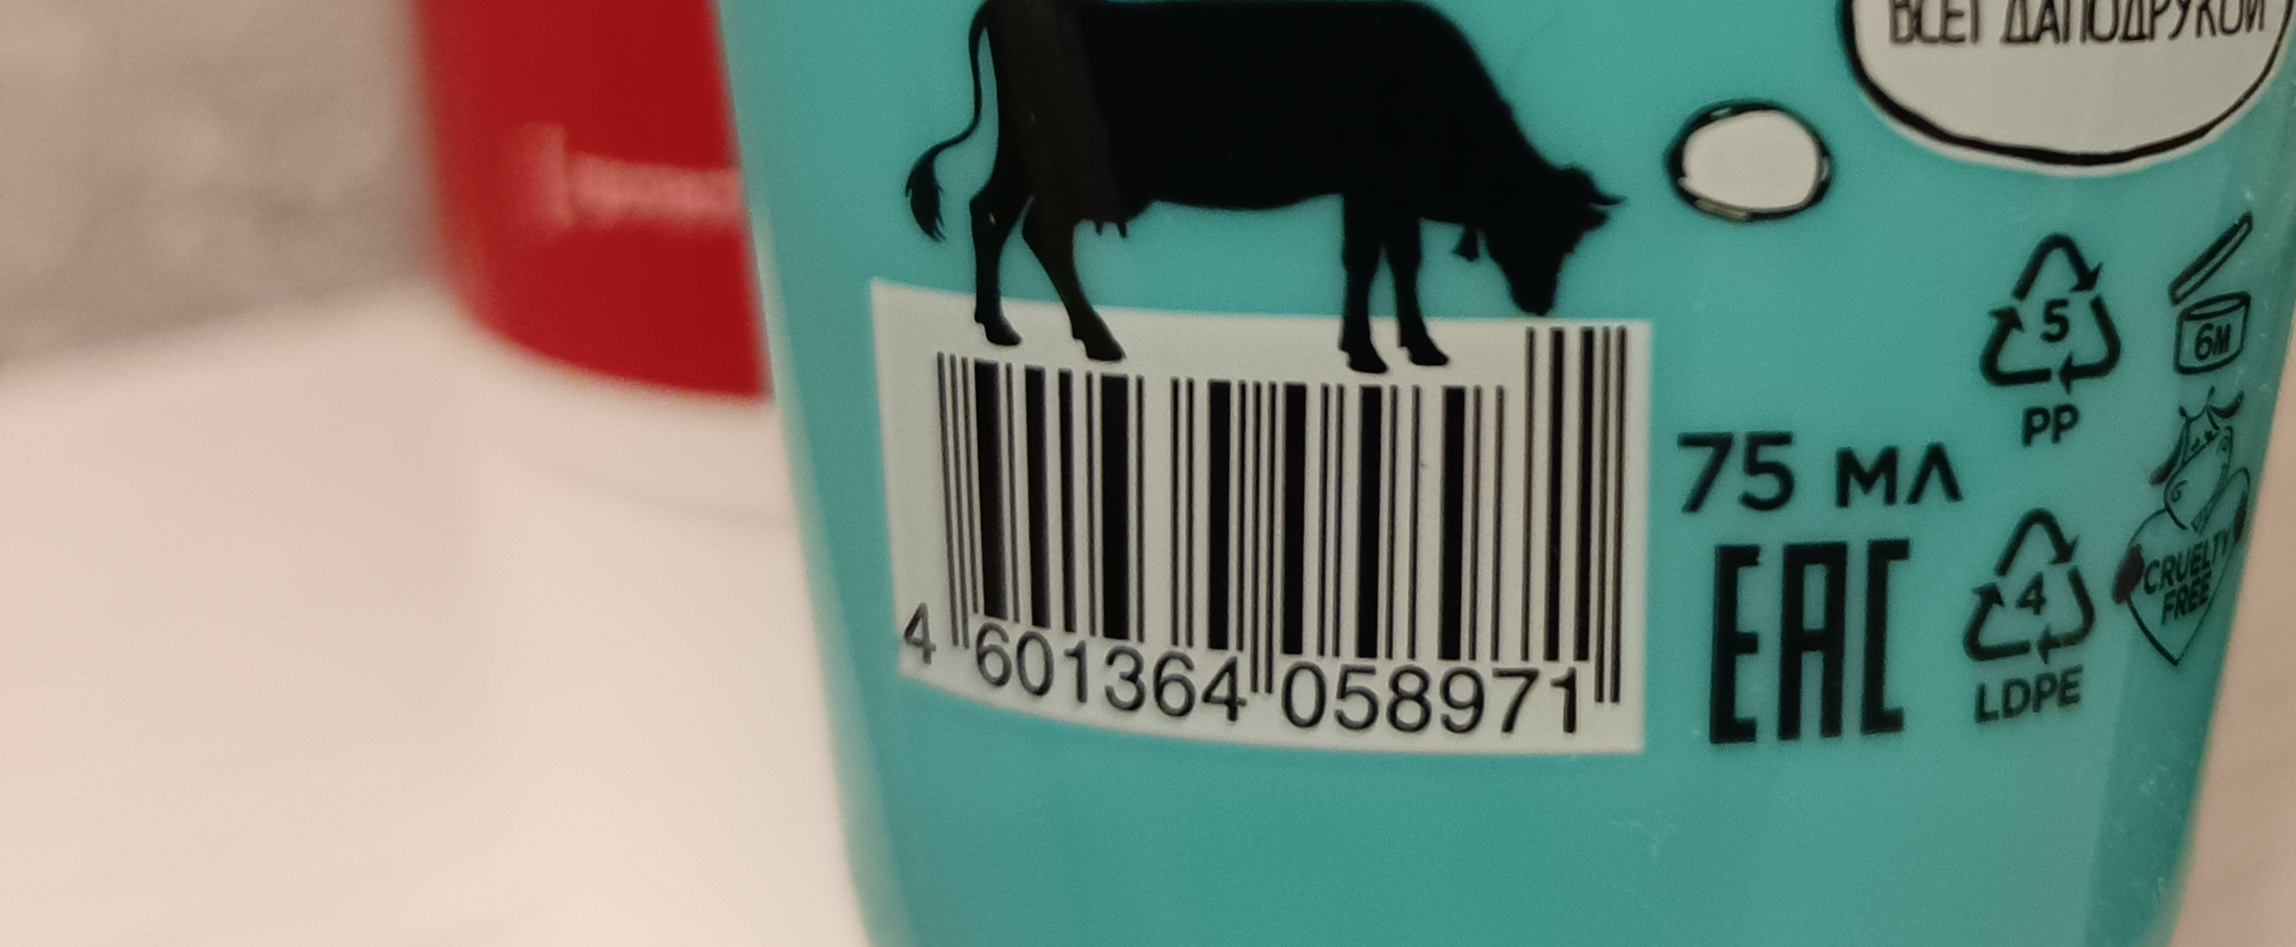1d: (928, 351, 1625, 659)
